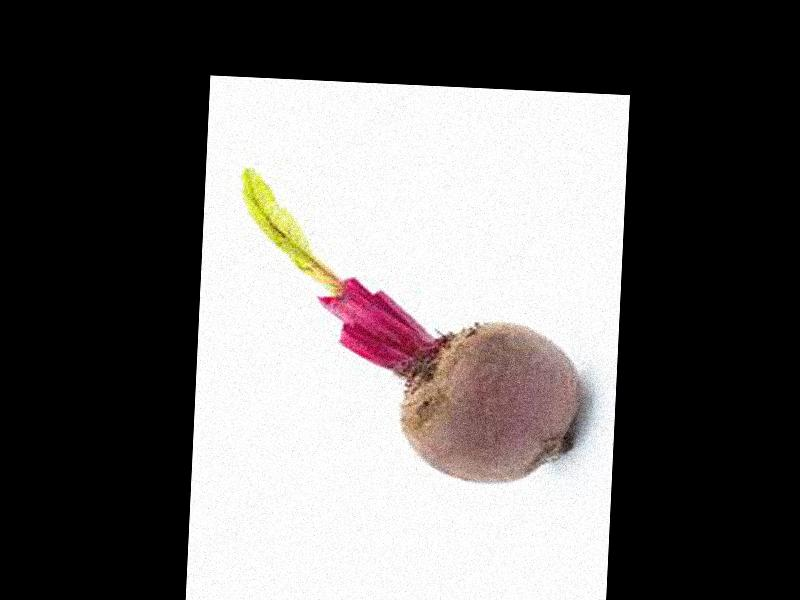Beet: (228, 171, 589, 488)
